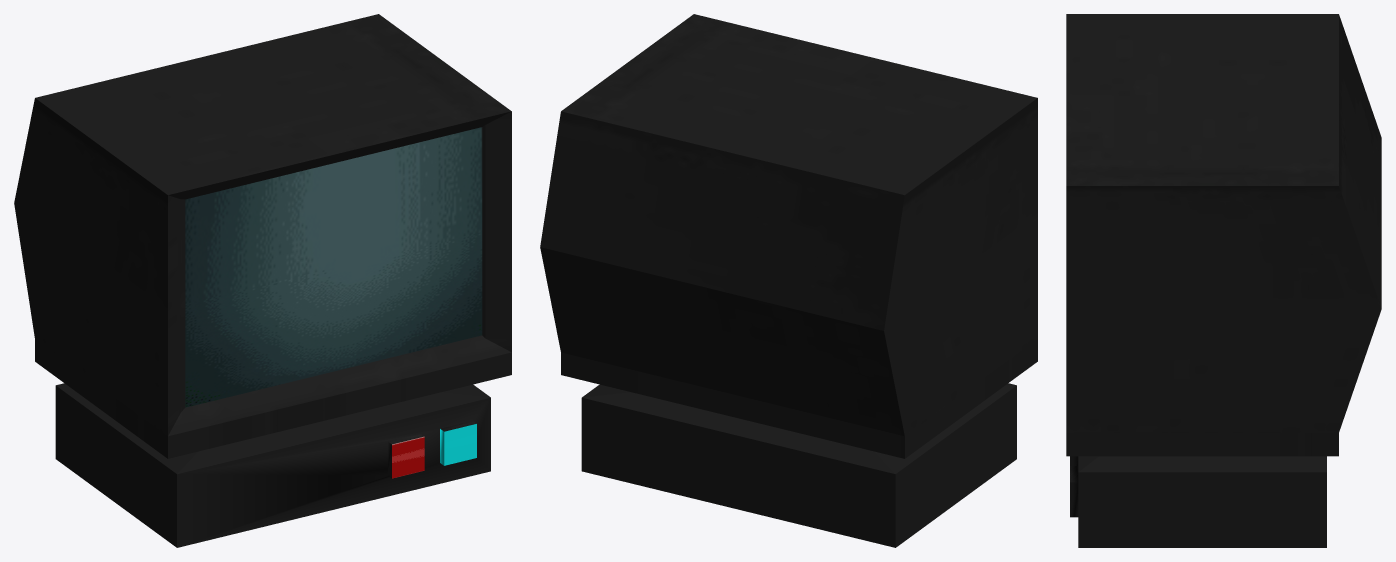
File: box_monitor.fbx
3 renders of one model, left to right at view 1: azimuth 30°, elevation 25°; view 2: azimuth 150°, elevation 25°; view 3: azimuth 270°, elevation 25°, orthographic. The views are drawn at different scales.
Parts seen in each view (by area): view 1: Cube.103; view 2: Cube.103; view 3: Cube.103.
Part boxes in pixels (x1=…): Cube.103: x1=14, y1=14, x2=511, y2=547; Cube.103: x1=540, y1=14, x2=1037, y2=547; Cube.103: x1=1066, y1=14, x2=1381, y2=547.
Size of the model in its own units: 2.99 by 2.99 by 2.31.
